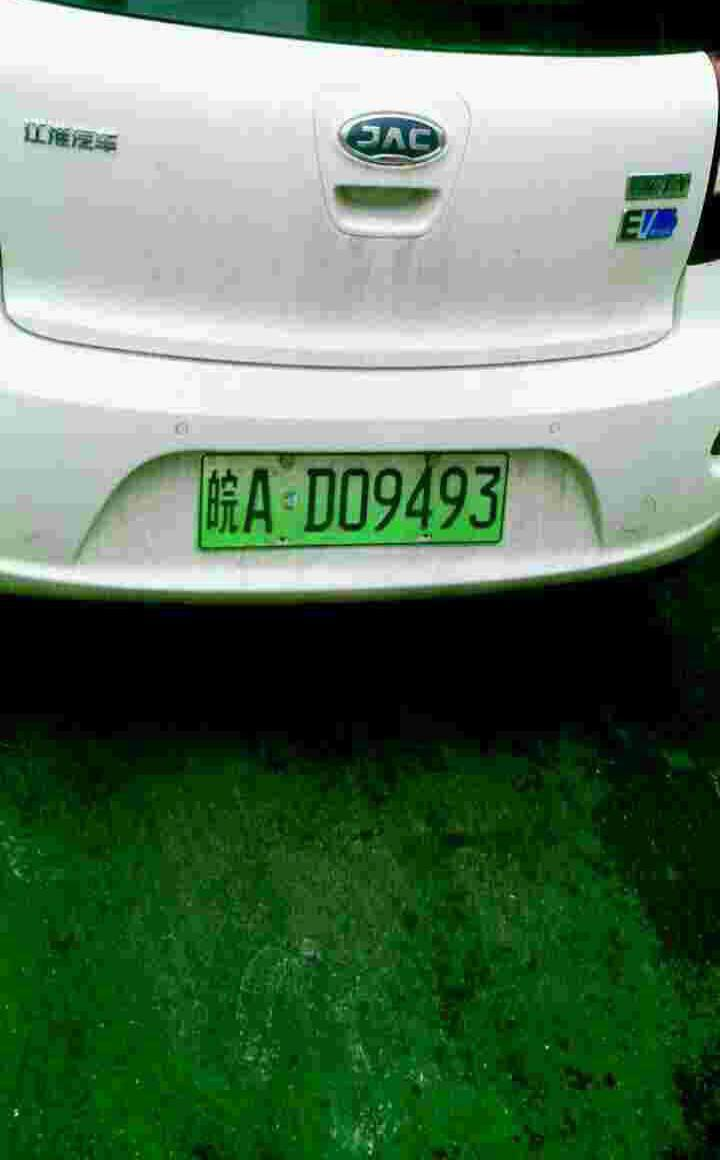car_id: (198, 453, 507, 544)
